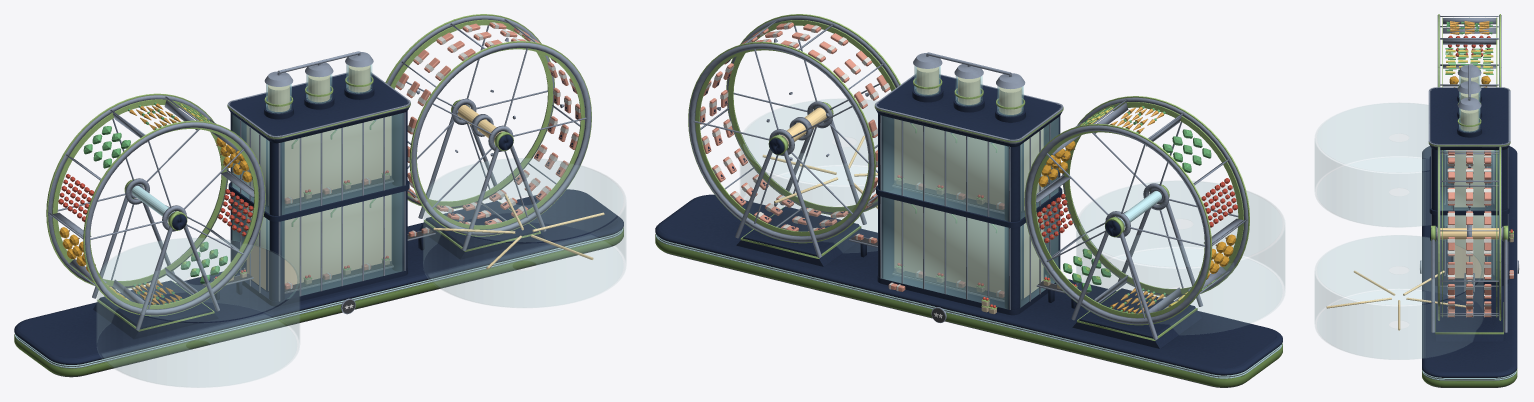
File: SM_Evo_FoodFactory.fbx
3 renders of one model, left to right at view 1: azimuth 30°, elevation 25°; view 2: azimuth 150°, elevation 25°; view 3: azimuth 270°, elevation 25°, orthographic. The views are drawn at different scales.
Parts seen in each view (by area): view 1: SMN_Evo_FoodFactory, Fx_FoodFactoryHarvest, Fx_FoodFactoryProtein, Emblem_Fx_FoodFactory, SpinWheel_FoodFactoryHarvest, SpinWheel_FoodFactoryProtein; view 2: SMN_Evo_FoodFactory, Emblem_Fx_FoodFactory, SpinWheel_FoodFactoryHarvest, Fx_FoodFactoryHarvest, SpinWheel_FoodFactoryProtein, Fx_FoodFactoryProtein; view 3: SMN_Evo_FoodFactory, Fx_FoodFactoryProtein, Fx_FoodFactoryHarvest, Emblem_Fx_FoodFactory, SpinWheel_FoodFactoryProtein, SpinWheel_FoodFactoryHarvest.
Part boxes in pixels (box(x1,y1,x2,y2)): SMN_Evo_FoodFactory: box(14, 51, 623, 377); Fx_FoodFactoryHarvest: box(97, 238, 299, 387); Fx_FoodFactoryProtein: box(423, 158, 625, 307); Emblem_Fx_FoodFactory: box(15, 64, 623, 367); SpinWheel_FoodFactoryHarvest: box(46, 93, 265, 316); SpinWheel_FoodFactoryProtein: box(385, 14, 591, 236); SMN_Evo_FoodFactory: box(655, 52, 1282, 387); Emblem_Fx_FoodFactory: box(656, 65, 1282, 378); SpinWheel_FoodFactoryHarvest: box(1024, 96, 1249, 325); Fx_FoodFactoryHarvest: box(1076, 181, 1284, 334); SpinWheel_FoodFactoryProtein: box(688, 14, 900, 243); Fx_FoodFactoryProtein: box(740, 98, 877, 252); SMN_Evo_FoodFactory: box(1420, 64, 1518, 387); Fx_FoodFactoryProtein: box(1315, 235, 1483, 359); Fx_FoodFactoryHarvest: box(1315, 103, 1430, 227); Emblem_Fx_FoodFactory: box(1419, 75, 1519, 380); SpinWheel_FoodFactoryProtein: box(1437, 146, 1501, 320); SpinWheel_FoodFactoryHarvest: box(1437, 14, 1501, 150).
Size of the model in its own units: 4.84 by 1.88 by 1.81.
